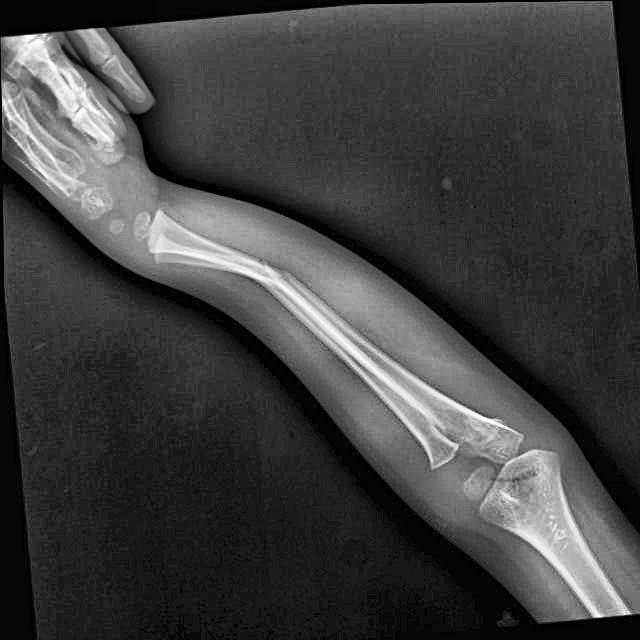Spiral: (248, 245, 314, 329)
